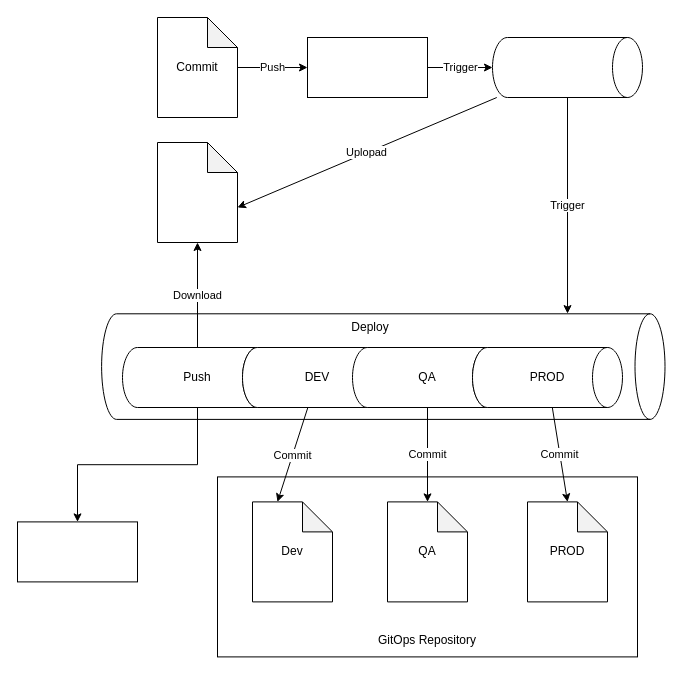
The diagram is 683 pixels wide and 675 high, and some of its shapes have lost their labels. Each missing label, with the centre of its shape:
"Application Repository" goes at pixel 367 67.
"Artifact" goes at pixel 197 192.
"build" goes at pixel 567 67.
"Image Registry" goes at pixel 77 551.
